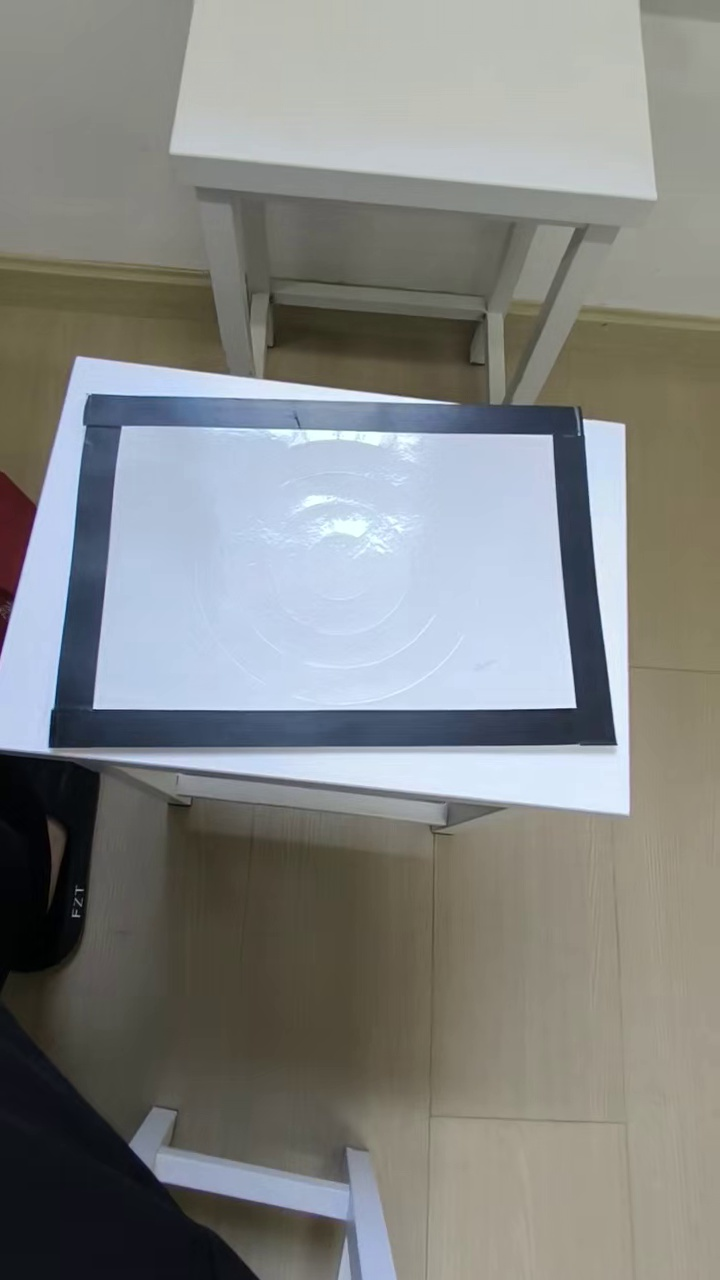board: (47, 396, 612, 747)
